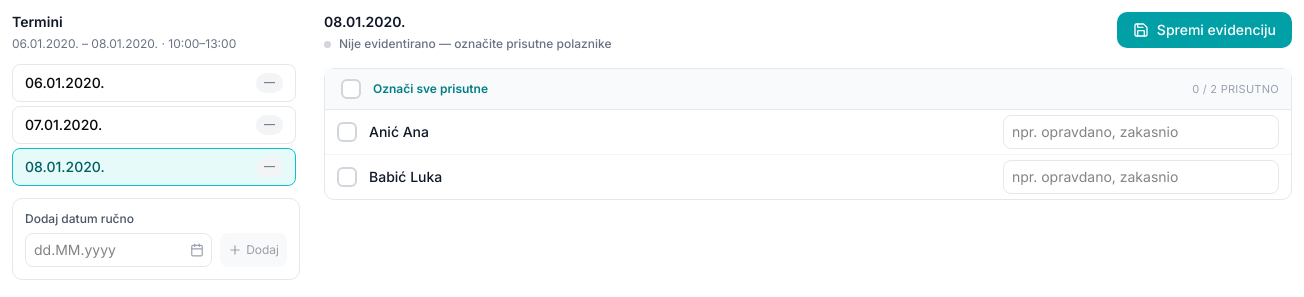
AttendanceMarker — mark all › clears the whole roster on the second click
What coordinates should you click on to do the following:
click the checkbox labelled "Označi sve prisutne"
I would click on:
 (414, 89)
Its box is [337,75,492,103].
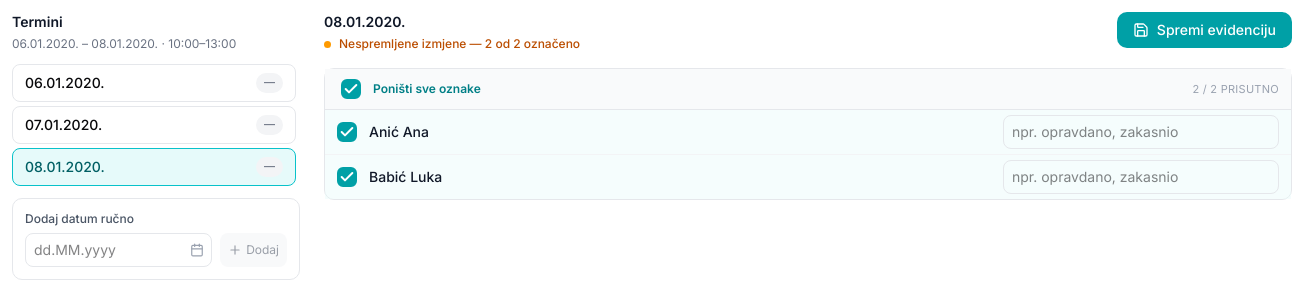
What coordinates should you click on to do the following:
click the checkbox labelled "Poništi sve oznake"
I would click on:
 (411, 89)
Its box is [337,75,485,103].
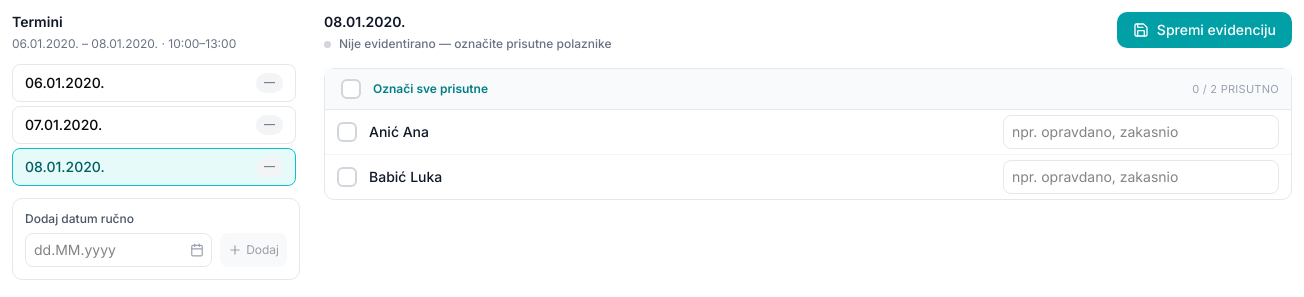
Check: the text "0 / 2 prisutno" is shown, box [1192,81,1279,97]
